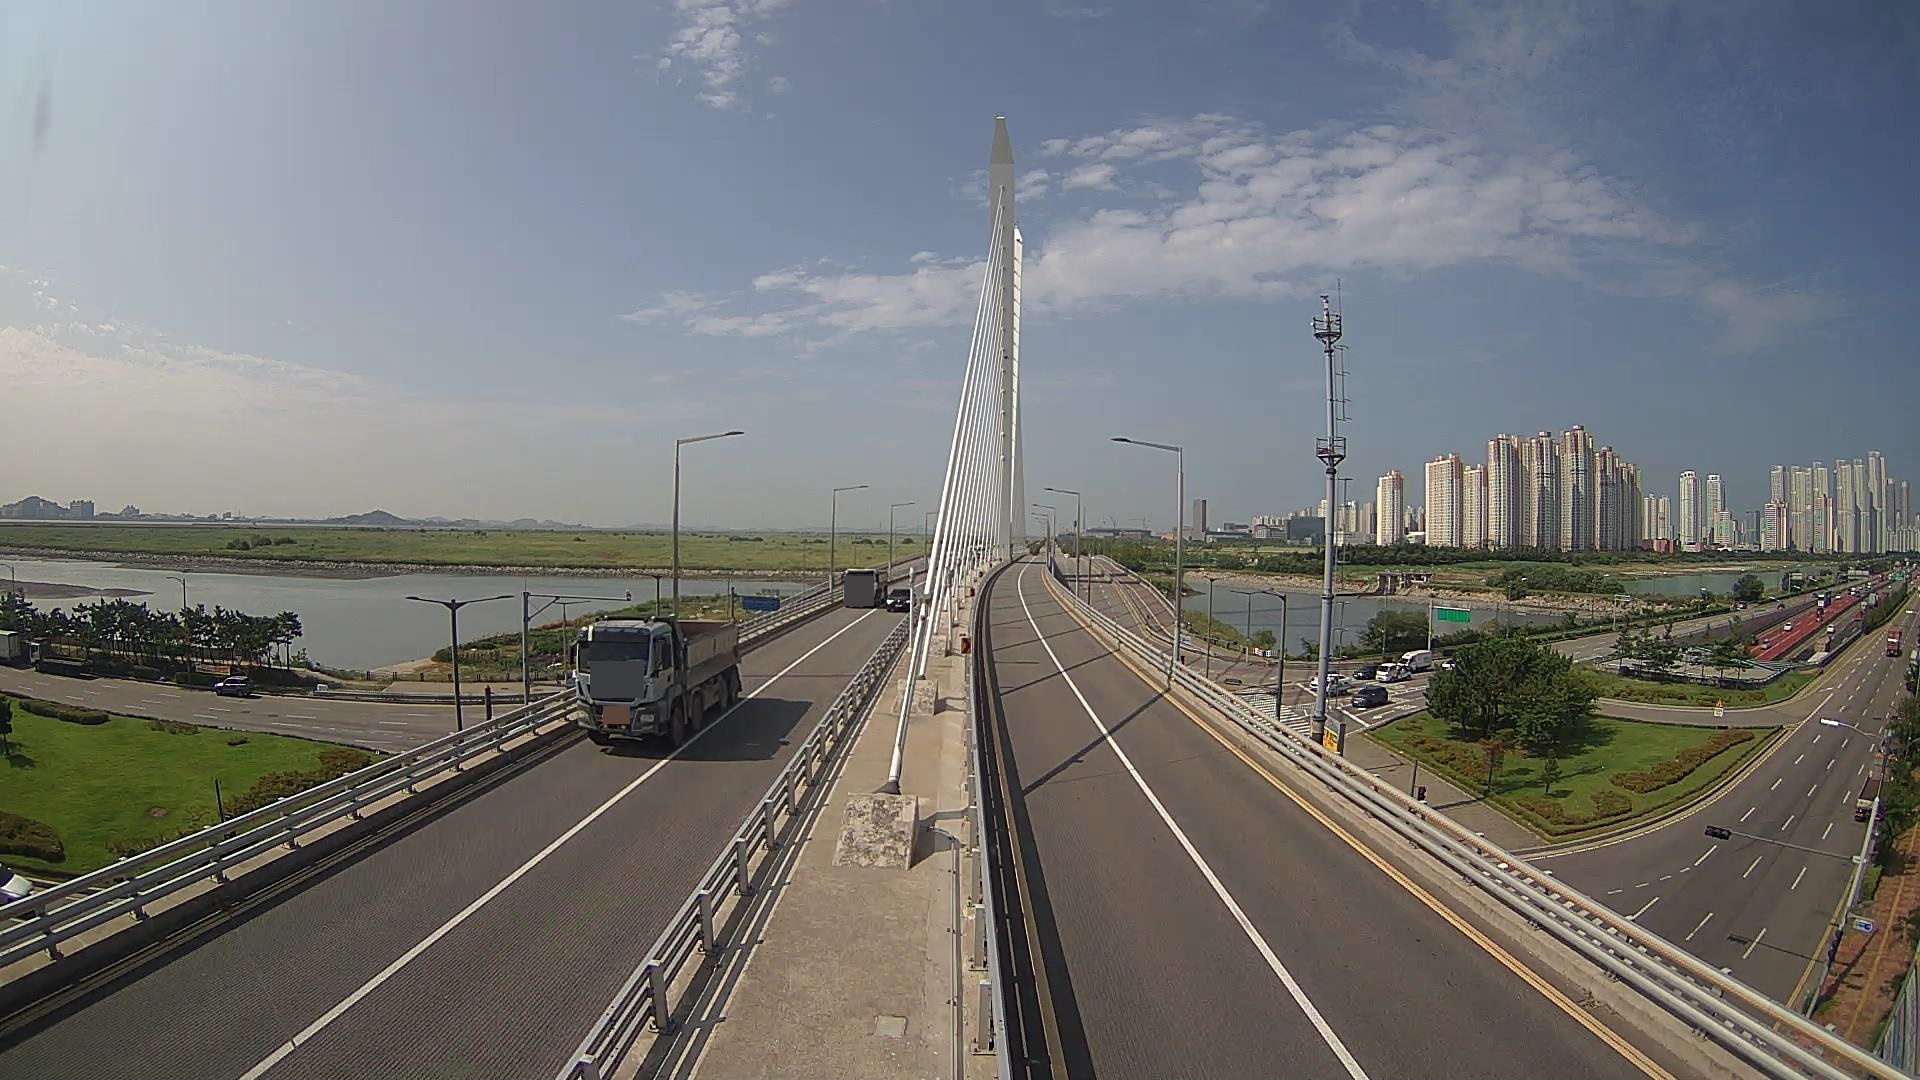정상차량: (570, 613, 742, 749)
